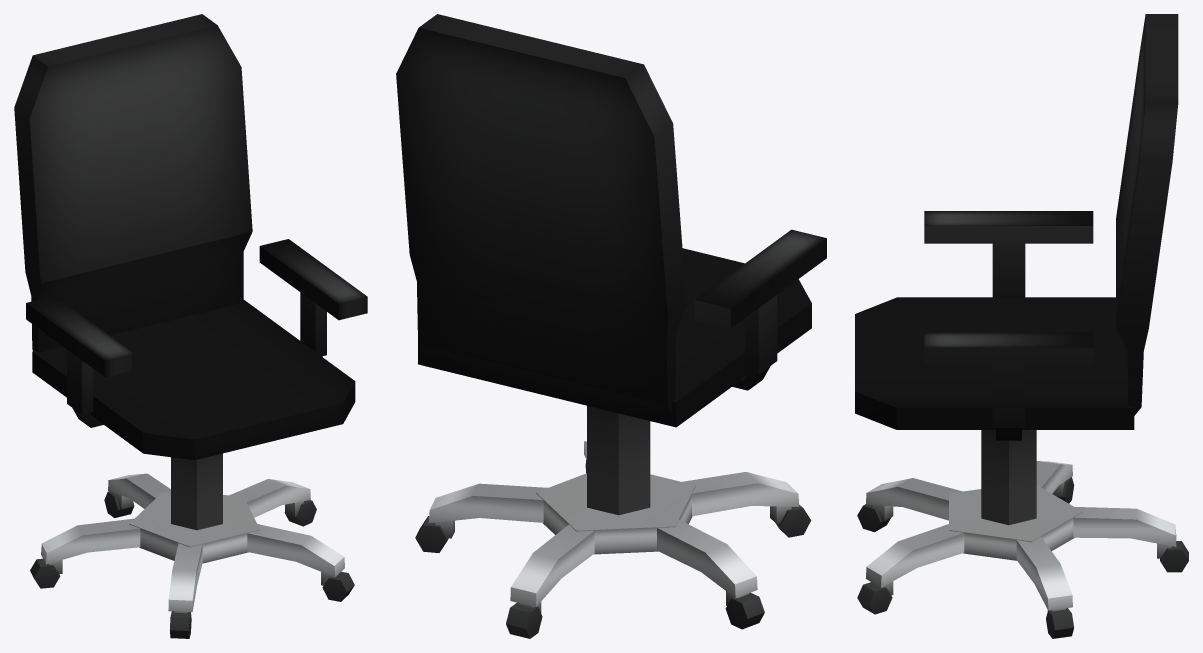
Rendered from Chair_Office.fbx.
3 views of the same model, side by side, from view 1: azimuth 30°, elevation 25°; view 2: azimuth 150°, elevation 25°; view 3: azimuth 270°, elevation 25° (orthographic). The views are drawn at different scales.
Visible parts, largest first — view 1: Chair_Office; view 2: Chair_Office; view 3: Chair_Office.
Part boxes in pixels (x1,y1,x2,y2): Chair_Office: (14,14,367,638); Chair_Office: (396,14,826,638); Chair_Office: (855,14,1188,638).
Bounding box in the file's own units: 69.71 × 112 × 66.73.
